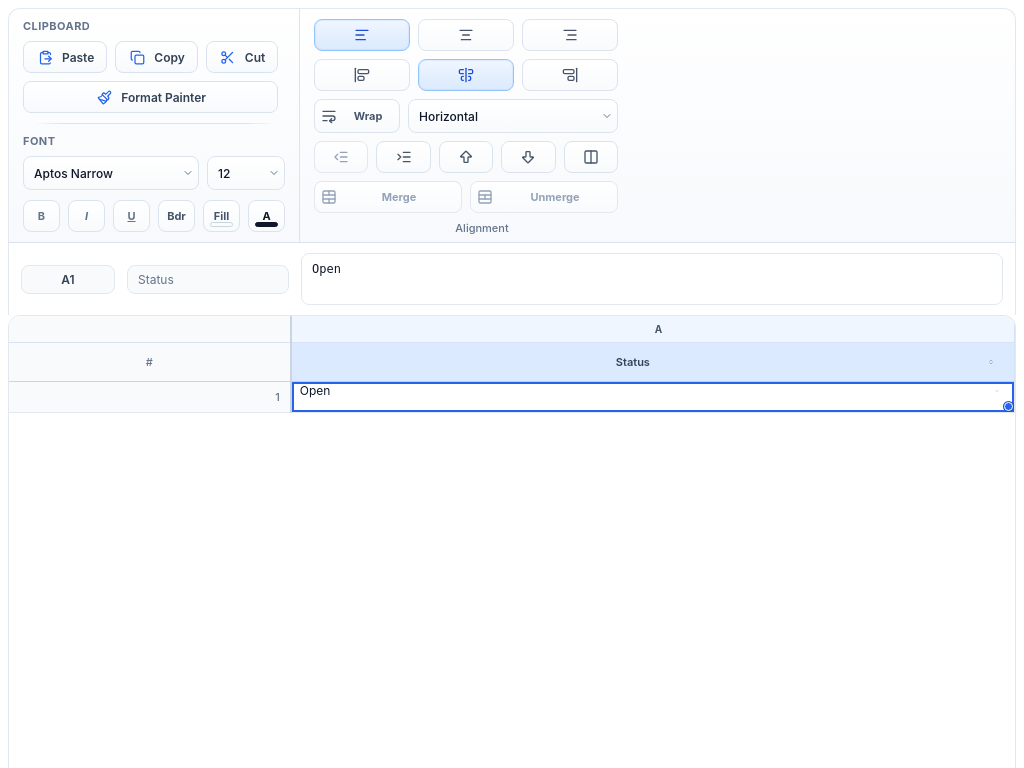
SelectEditor with a stored value outside the options › still lists only the configured options when the value is one of them
Double-click the element with class "gm-cell-shell": x=315, y=390 [300,382,1006,412]
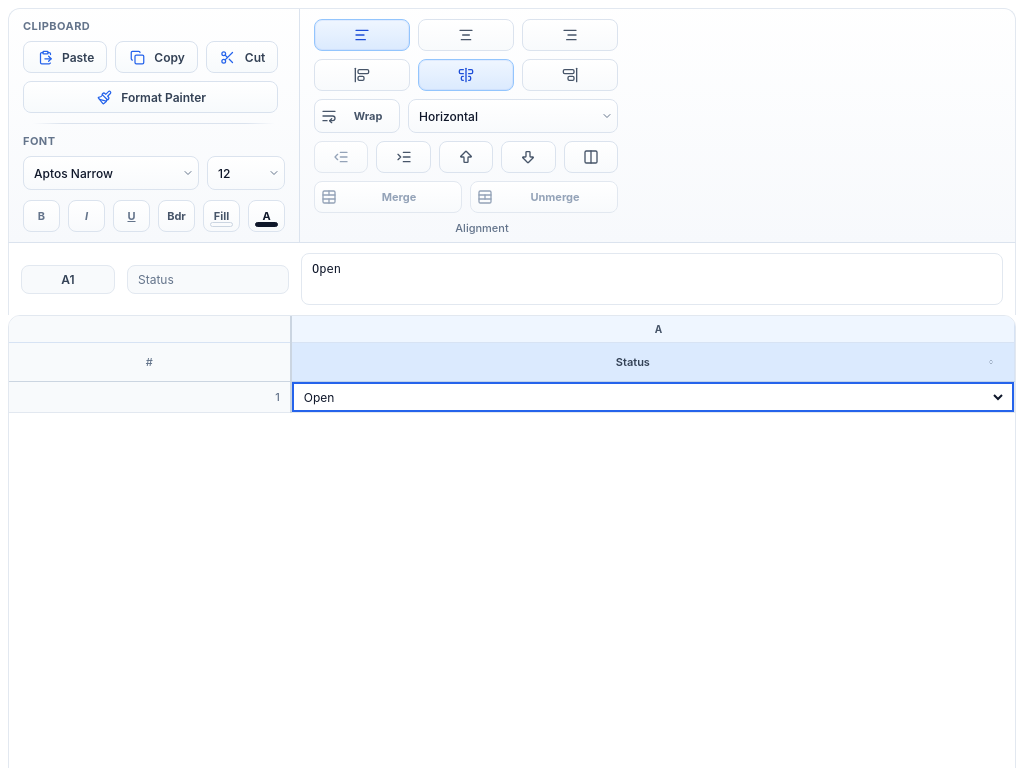
Now the 4th dropdown shows "Open", box [300,382,1006,412]
